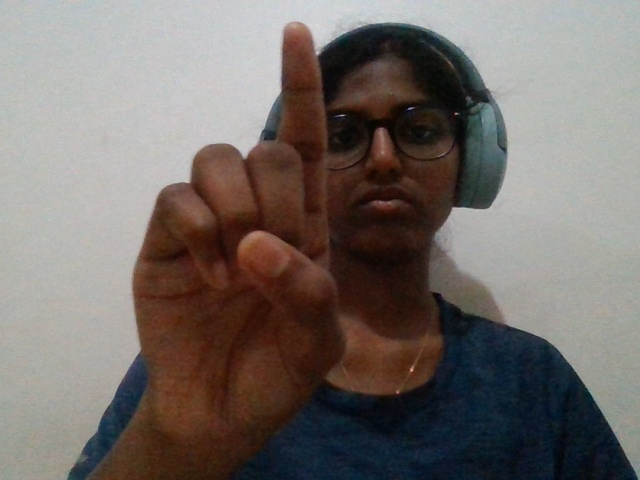D: (111, 13, 364, 478)
